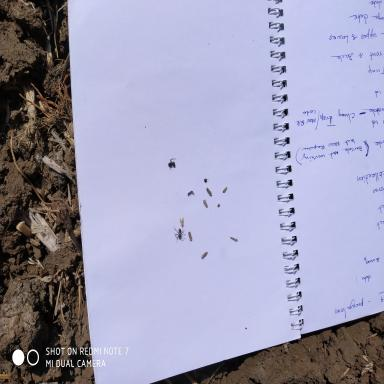pbw: (178, 216, 186, 229)
